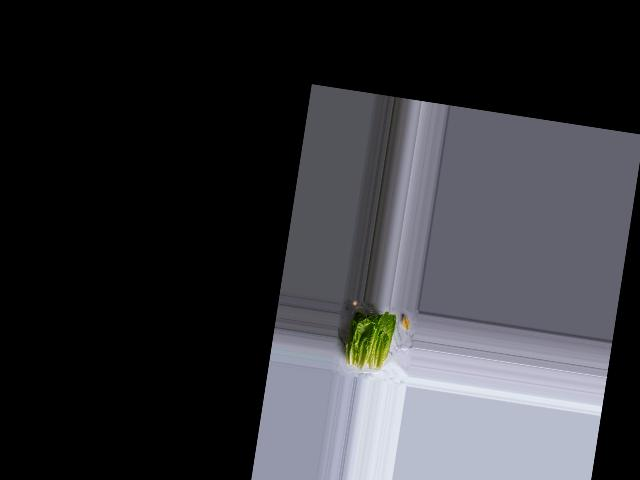lettuce: (341, 305, 399, 373)
